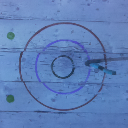Axe Tip: (89, 60, 103, 62)
